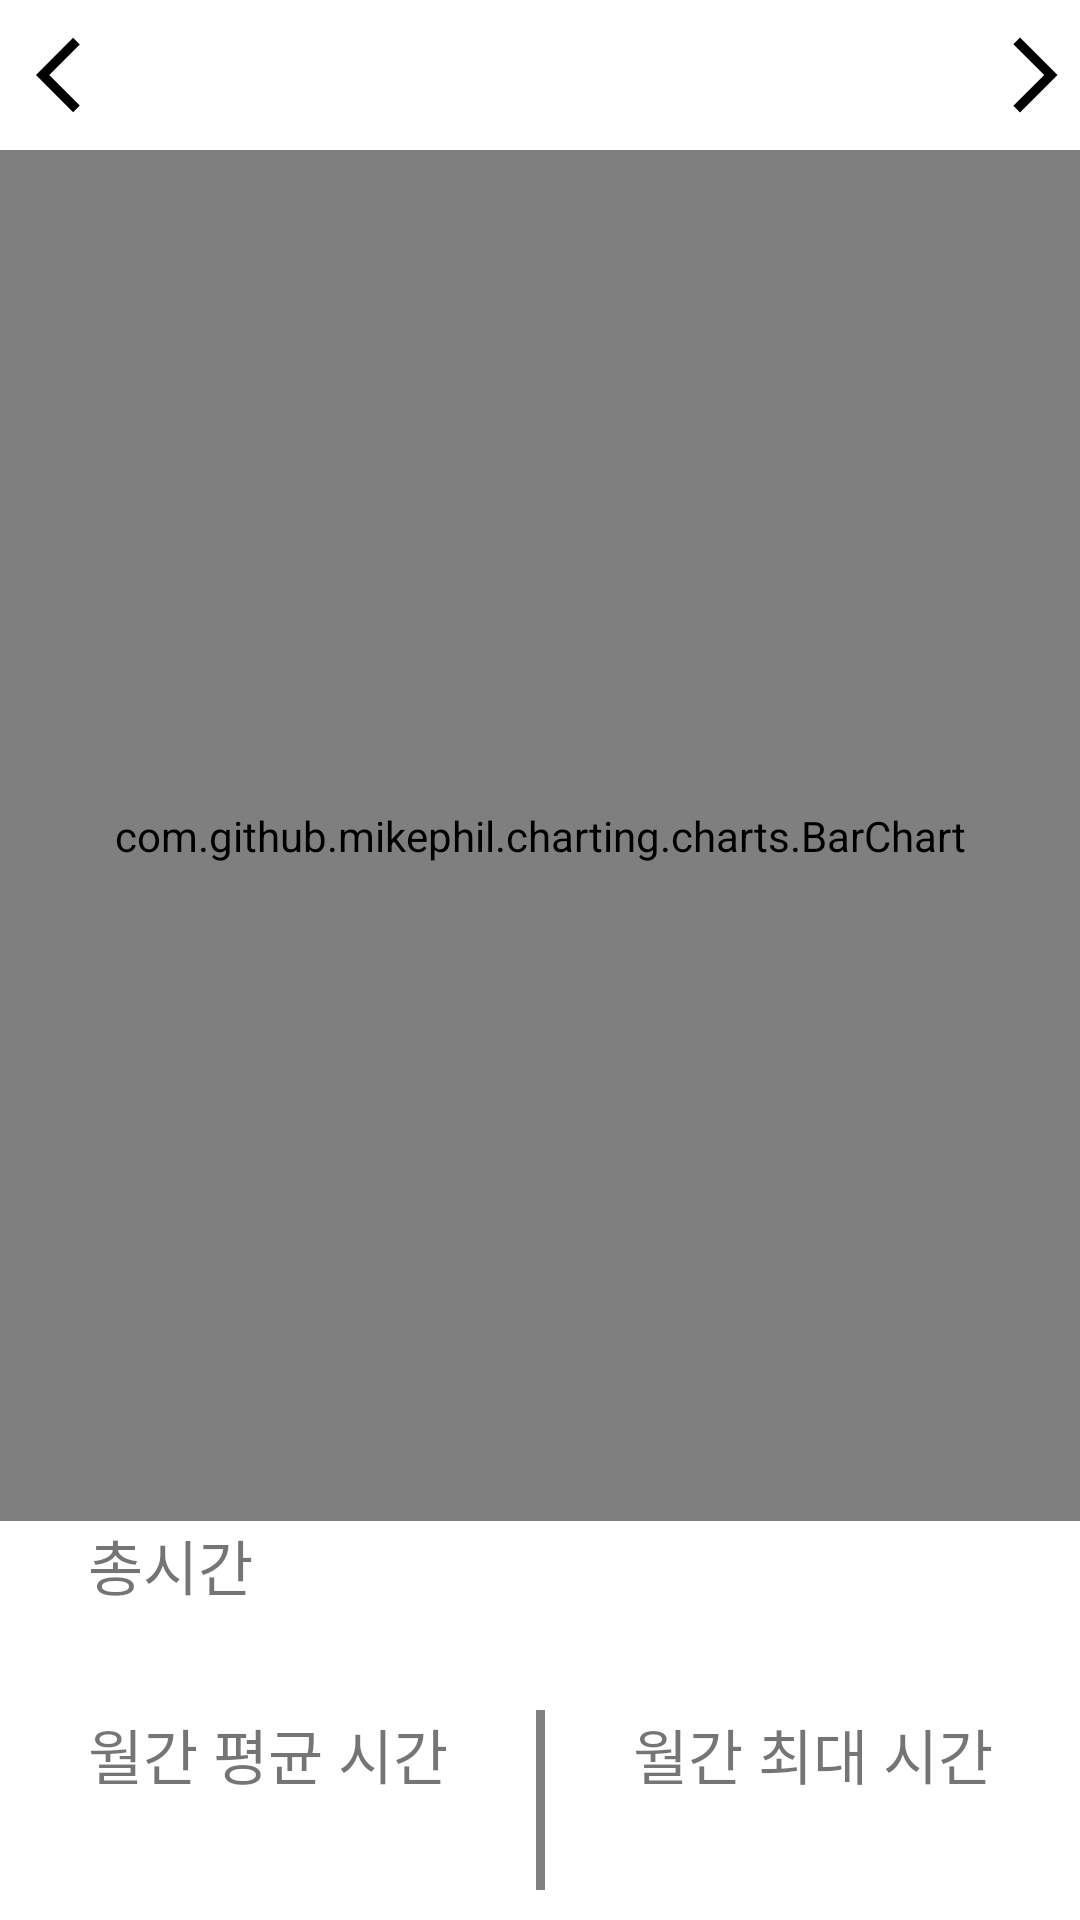

Named icons in this screenshot (1080px x 1920px) and their bounding boxes, (x1, y1, x2, y2):
다음 달: (1013, 37, 1058, 113)
이전 달: (36, 38, 80, 112)
